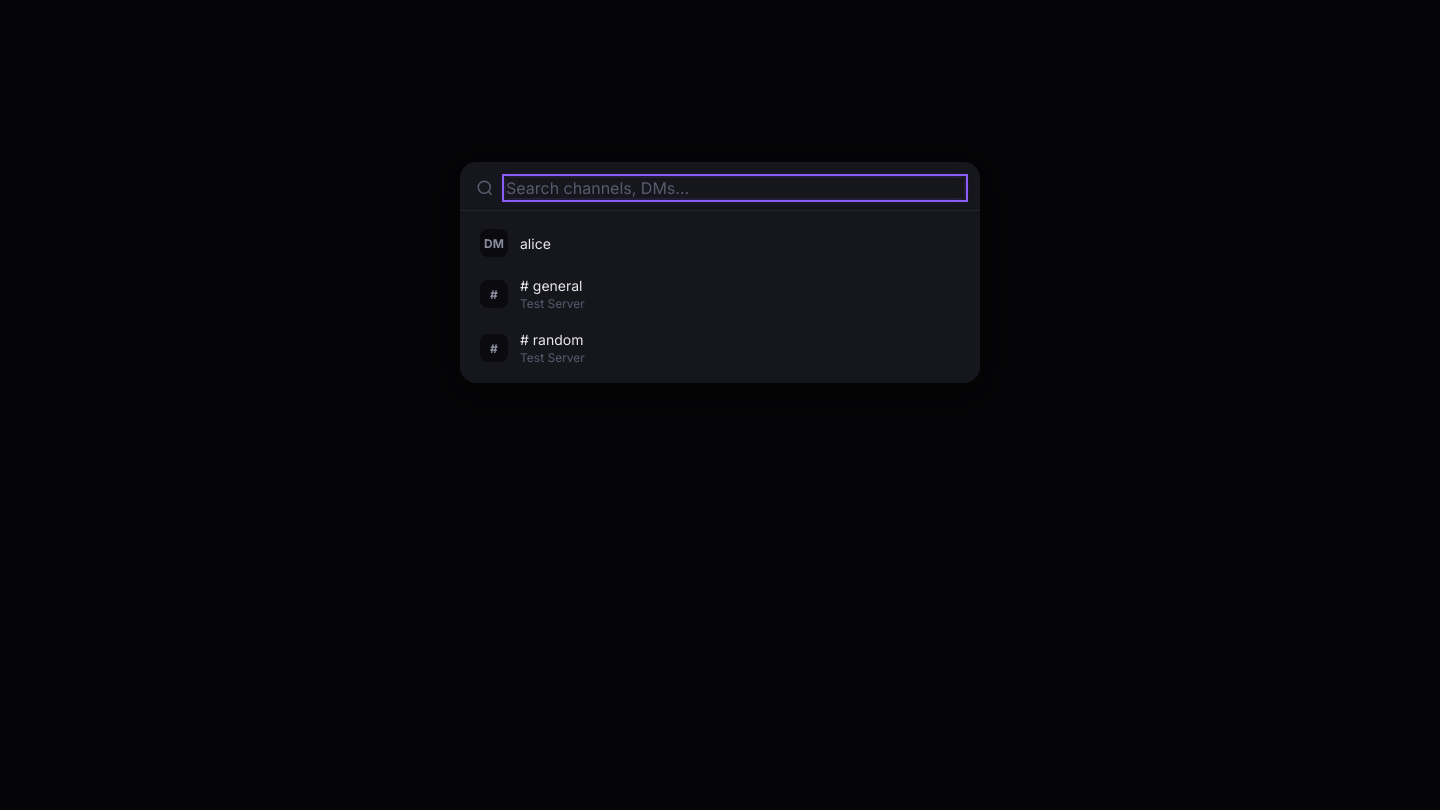
QuickSwitcher › shows no results message when no matches
Type "xyz123" into the field with placeholder "Search channels, DMs...". click: (735, 188)
box: [506, 178, 964, 198]
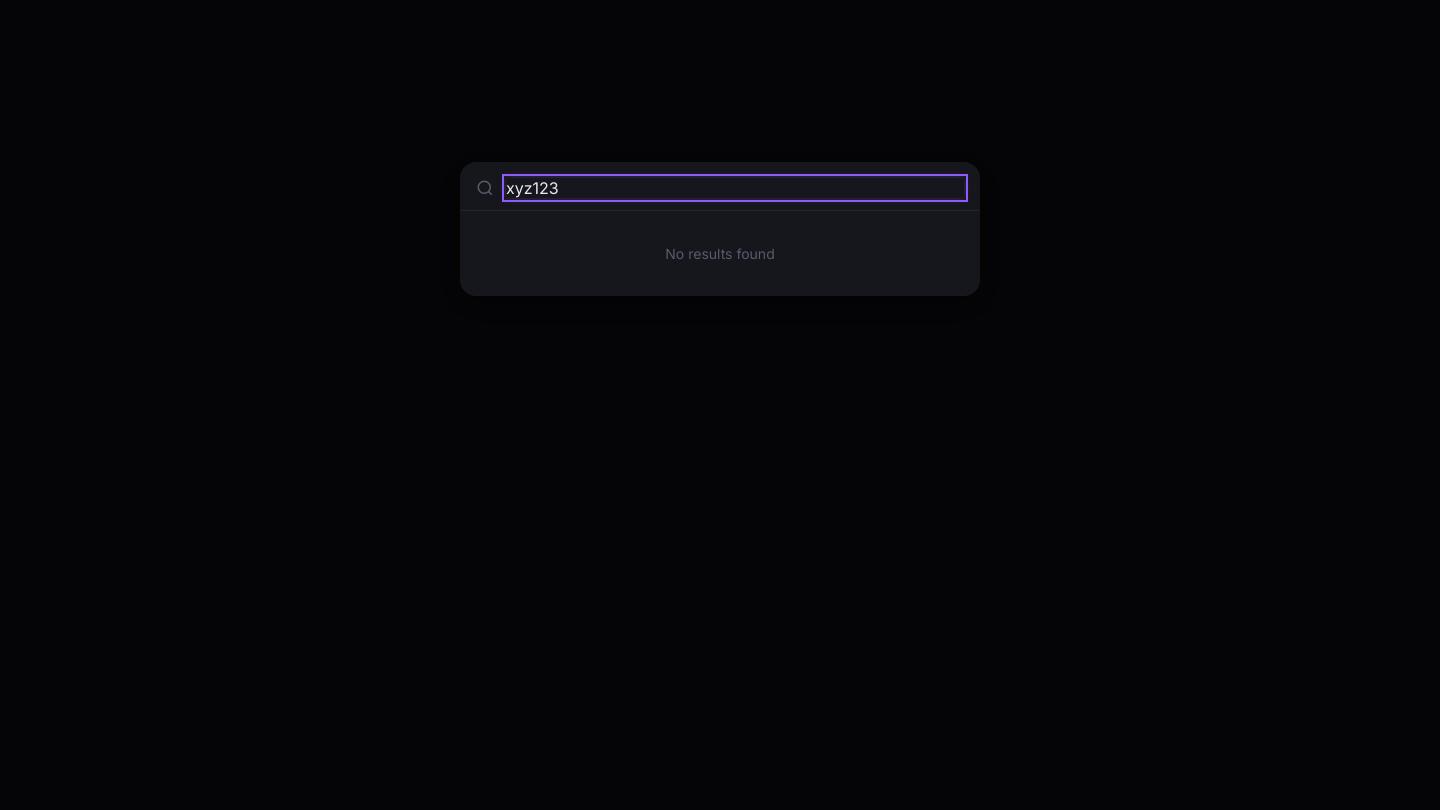
Result: the text "No results found" is shown at [665, 245, 775, 262]
